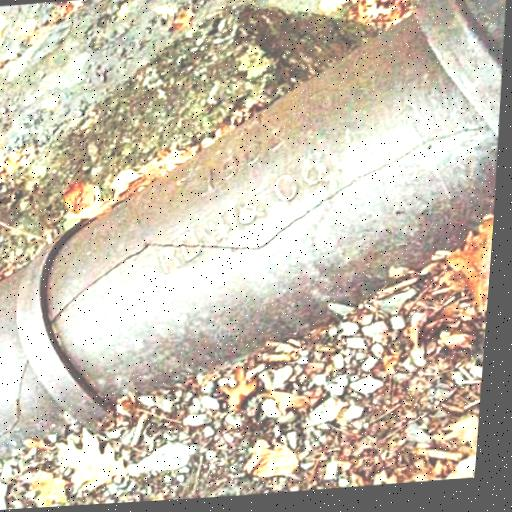crack: (46, 111, 488, 329), (0, 350, 33, 440)
